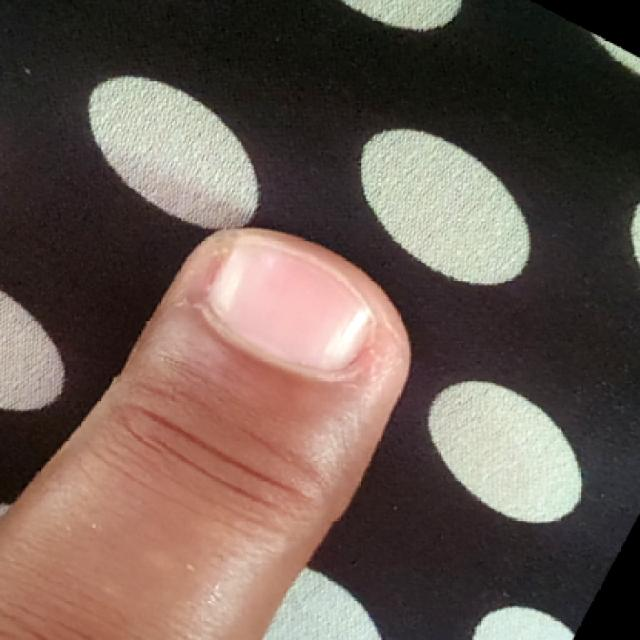Nail: (210, 240, 377, 370)
